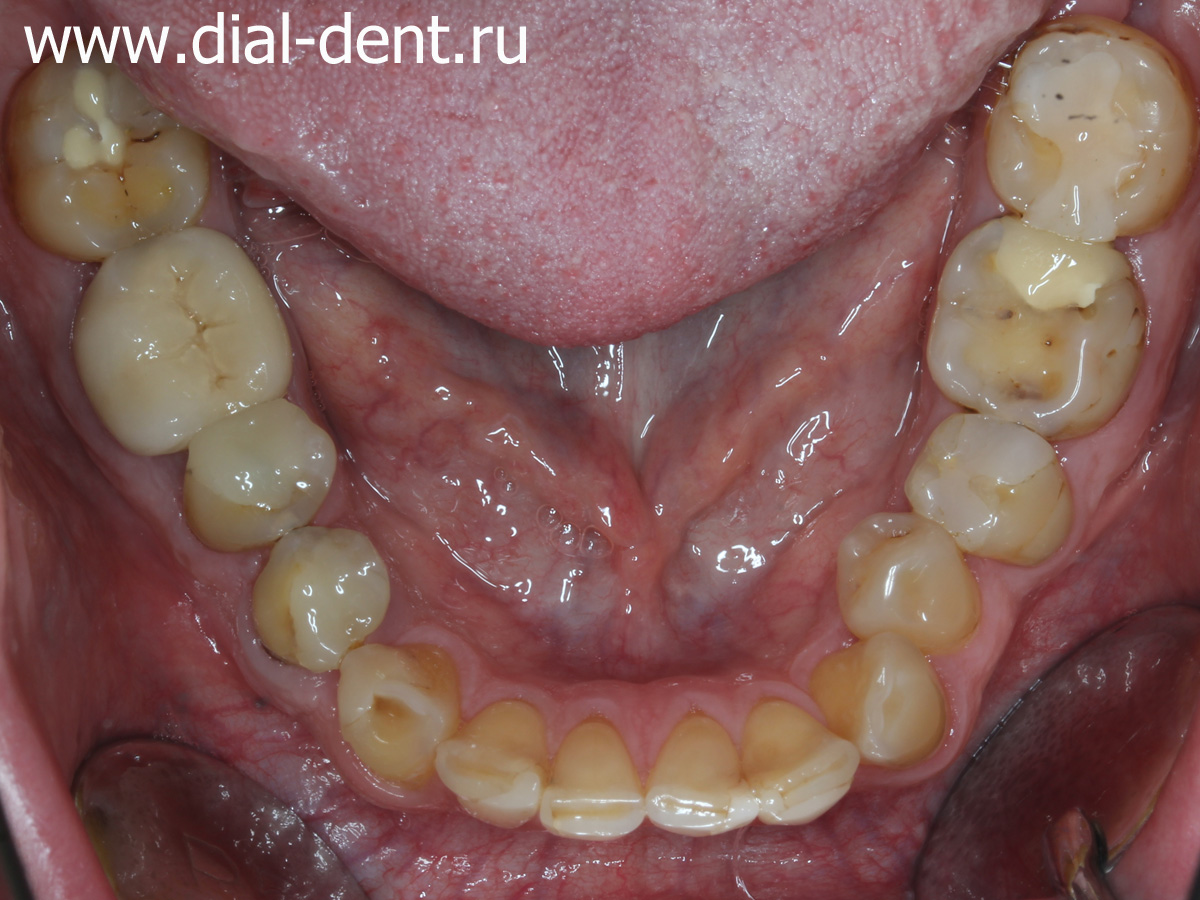LL1BC_healthy: (844, 505, 986, 655)
LL1M_decay: (939, 225, 1147, 425)
LL2BC_healthy: (921, 420, 1071, 577)
LL2M_decay: (982, 31, 1188, 220)
LLCI_healthy: (649, 721, 748, 837)
LLC_healthy: (819, 639, 948, 761)
LLLI_healthy: (743, 704, 852, 827)
LR1BC_decay: (258, 526, 384, 666)
LR1M_healthy: (95, 246, 280, 420)
LR2BC_healthy: (186, 402, 337, 542)
LR2M_decay: (18, 60, 201, 240)
LRCI_healthy: (548, 722, 645, 834)
LRC_decay: (340, 656, 449, 781)
LRLI_healthy: (450, 696, 543, 827)
